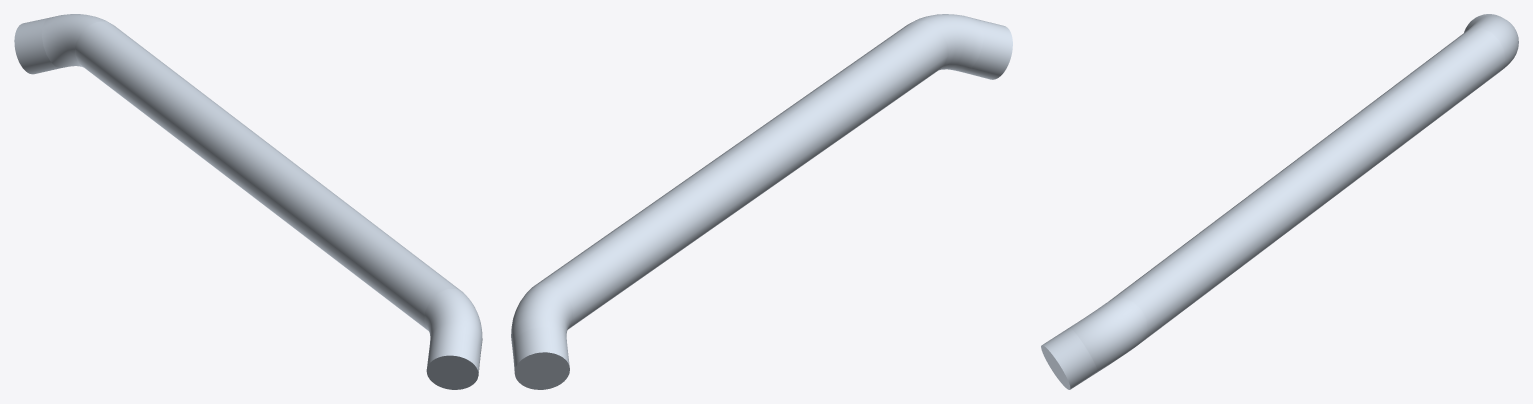
File: RB-017_viewer.glb
3 views of the same model, side by side, from view 1: azimuth 30°, elevation 25°; view 2: azimuth 150°, elevation 25°; view 3: azimuth 330°, elevation 25° (orthographic). The views are drawn at different scales.
Visible parts, largest first — view 1: basebody_imported1; view 2: basebody_imported1; view 3: basebody_imported1.
Part boxes in pixels (left/top/right/bottom): basebody_imported1: left=14, top=14, right=482, bottom=389; basebody_imported1: left=511, top=14, right=1012, bottom=389; basebody_imported1: left=1041, top=14, right=1518, bottom=389.
Bounding box in the file's own units: 0.0033 × 0.0034 × 0.0339.
